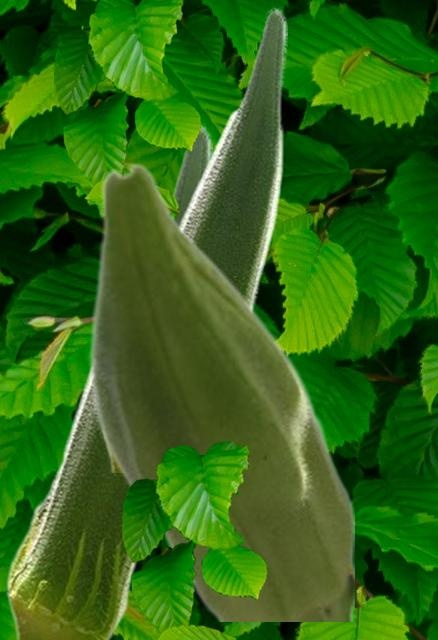okra: (88, 162, 353, 620), (5, 122, 211, 638), (101, 6, 286, 471)
